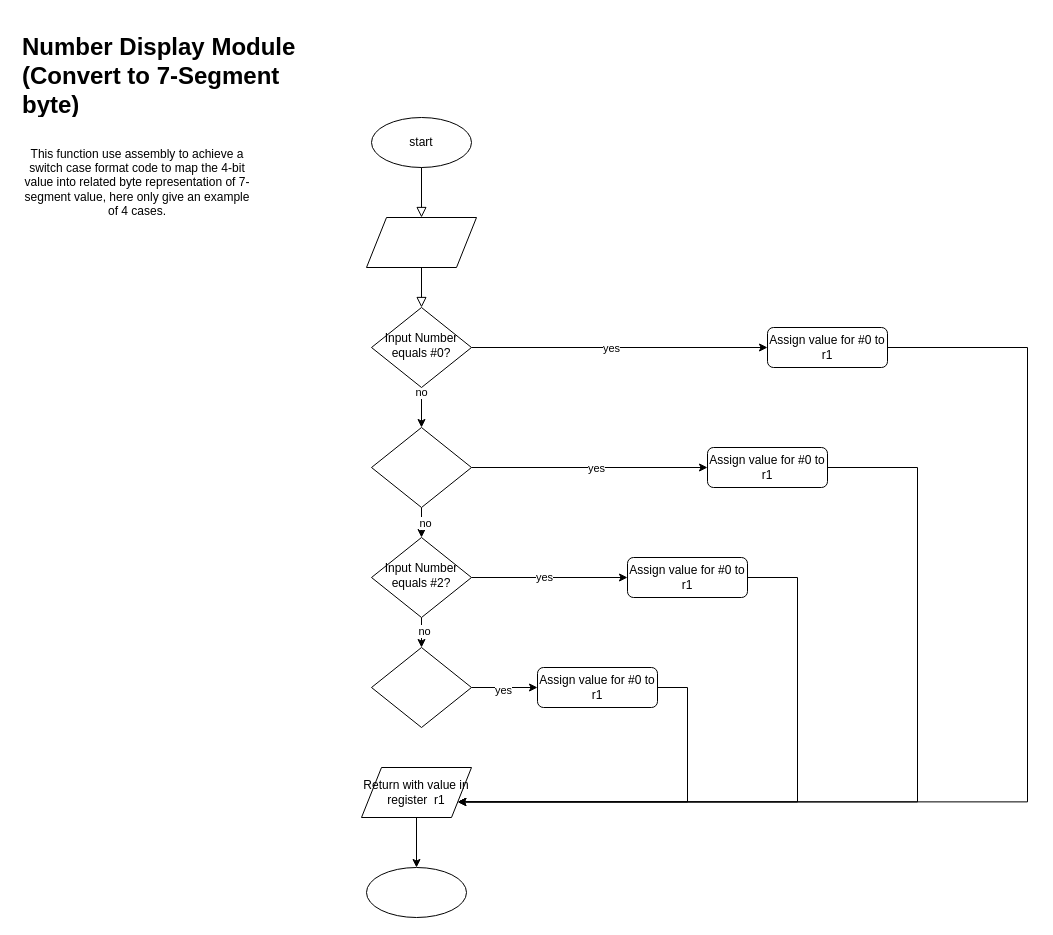
Some shapes in this 1053 by 935 pixel diagram are drawn without their labels. The box of each missing label's shape, as (x1, y1, x2, y2) in pixels:
end: (366, 866, 466, 918)
Input Number equals #1?: (370, 426, 472, 508)
Input Number equals #3?: (370, 646, 472, 728)
Input Number in register r0: (366, 216, 476, 268)
